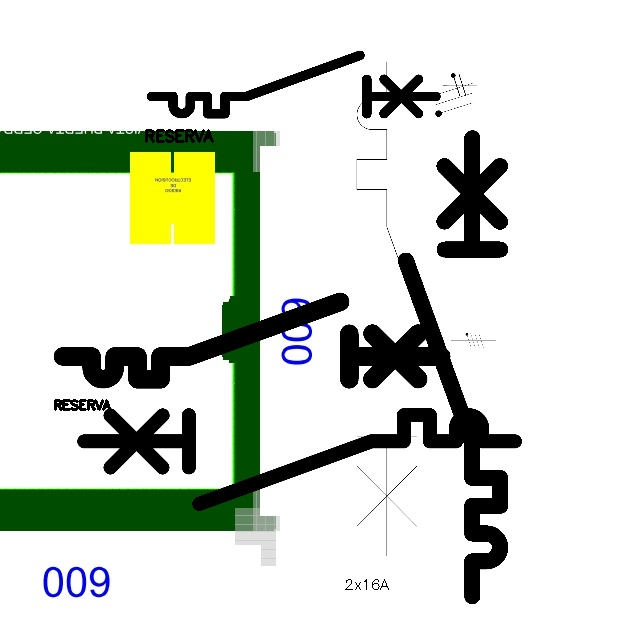interruptor_termomagnetico: (344, 49, 471, 569), (394, 126, 512, 608), (73, 404, 526, 515), (53, 292, 451, 389), (144, 48, 443, 121)
